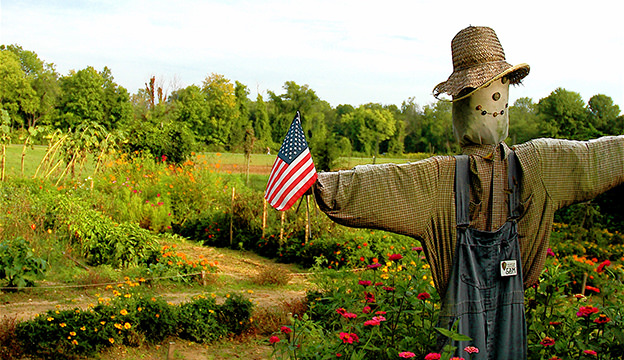person-like: (302, 20, 623, 360)
